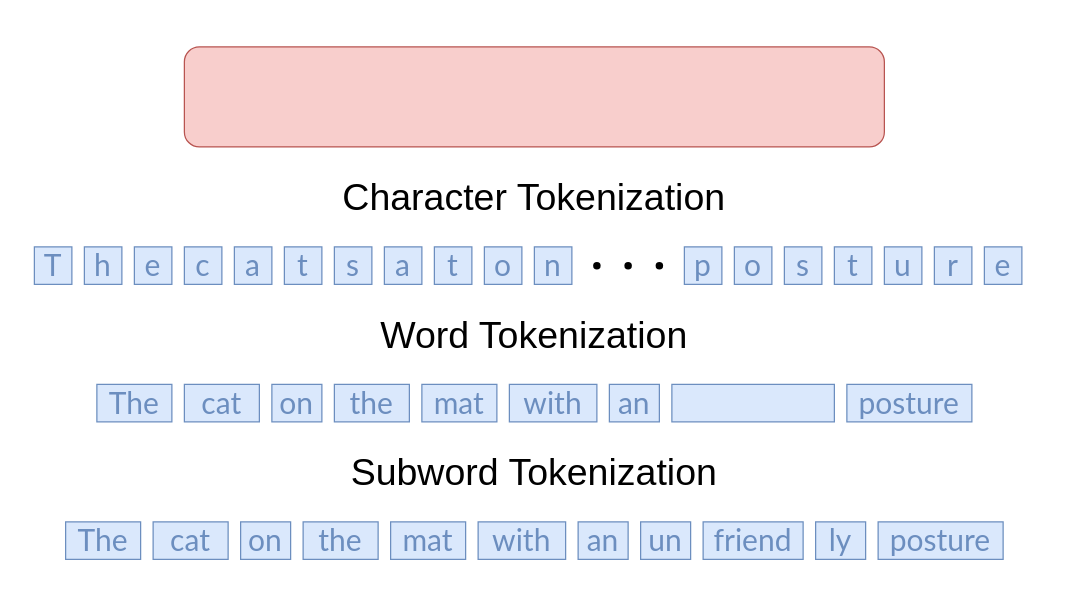
Some shapes in this 1068 by 605 pixel diagram are drawn without their labels. The shapes that lost their labels are listed below. From the top down, each one's centre as x and y in pixels, then its label:
At [533,96]: "The cat sat on the mat with an unfriendly posture".
At [752,402]: "unfriendly".
